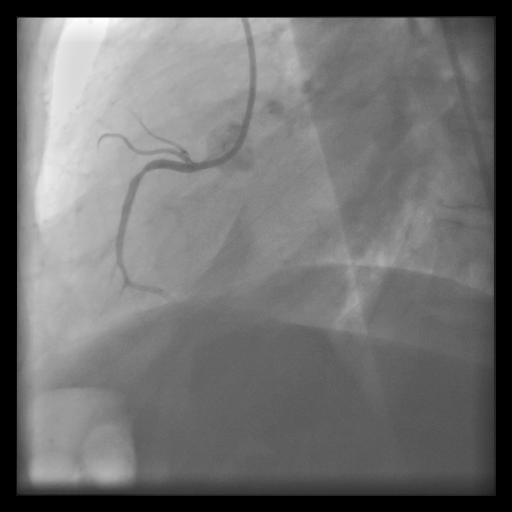Stenosis: (135, 162, 157, 177)
